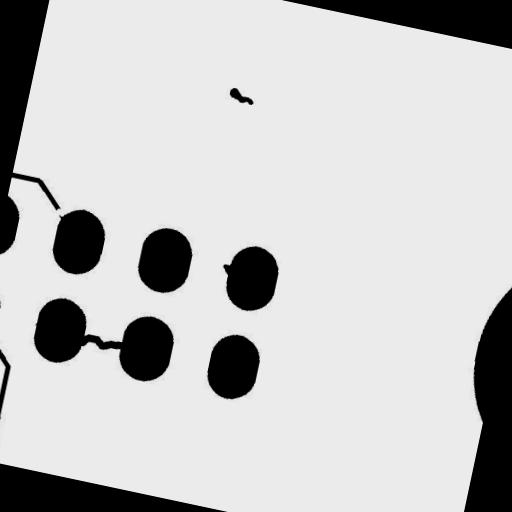copper: (218, 78, 264, 114)
open: (46, 198, 74, 226)
short: (68, 322, 134, 362)
spur: (212, 254, 246, 284)
